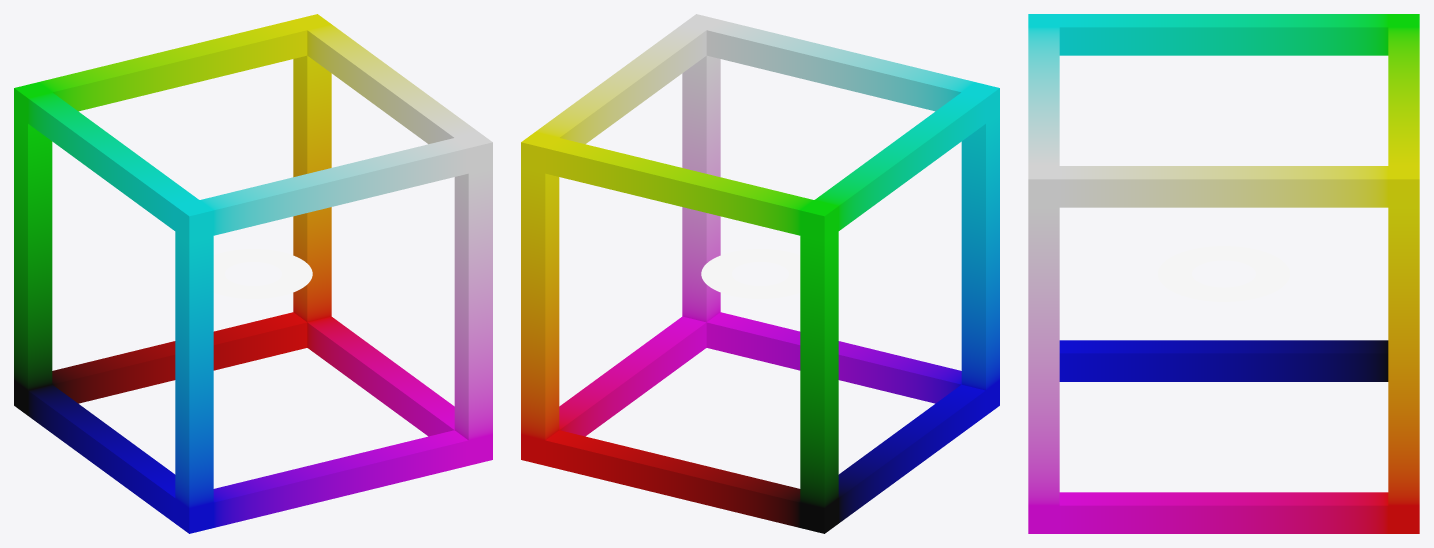
The model's file is color_cube.glb.
The picture shows the model from 3 angles, left to right: view 1: azimuth 30°, elevation 25°; view 2: azimuth 150°, elevation 25°; view 3: azimuth 270°, elevation 25°; orthographic projection. The views are drawn at different scales.
Visible parts, largest first — view 1: Cube, Circle; view 2: Cube, Circle; view 3: Cube, Circle.
Boxes of the visible parts, x1,y1,x2,y2 form: Cube: (14, 14, 492, 533); Circle: (213, 249, 312, 298); Cube: (521, 14, 999, 533); Circle: (701, 249, 800, 298); Cube: (1028, 14, 1419, 533); Circle: (1158, 246, 1289, 301).
Size of the model in its own units: 0.2 by 0.2 by 0.2.
